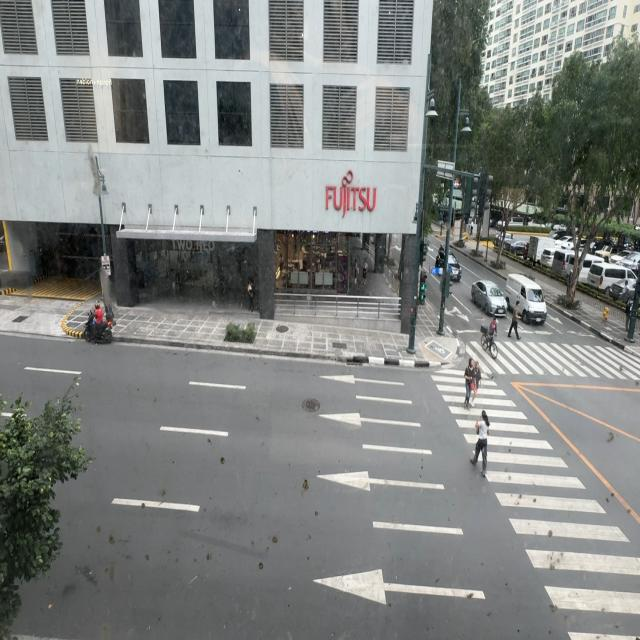crossing: (471, 408, 493, 477), (464, 364, 475, 412), (471, 360, 482, 402)
jaywalking: (507, 302, 522, 339)
